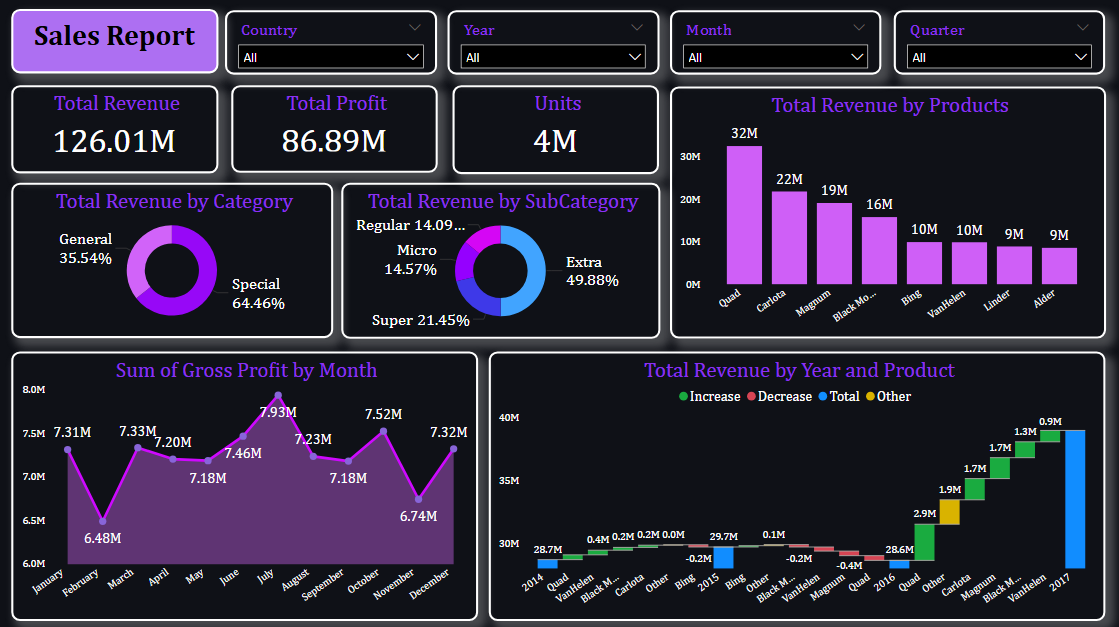

Layout of this report page (visuals, bound fields, positions):
{"tool":"powerbi","page":{"name":"Page 1","canvas":[1280,720],"ordinal":0},"visuals":[{"type":"textbox","box":[13.3,11.7,236.7,73.3],"z":0},{"type":"cardVisual","title":"Total Revenue","fields":{"Data":["Sum(Sales.Revenue)"]},"box":[13.3,98.3,236.7,100.8],"z":1000},{"type":"cardVisual","title":"Total Profit","fields":{"Data":["Sales.Total Profit"]},"box":[263.8,98.8,236.2,100],"z":2000},{"type":"cardVisual","title":"Units","fields":{"Data":["Sum(Sales.Units)"]},"box":[517.5,98.8,236.2,101.2],"z":3000},{"type":"donutChart","fields":{"Category":["Categories.Category"],"Y":["Sales.Total Revenue"]},"box":[13.3,209.3,368.3,177.5],"z":4000},{"type":"donutChart","title":"Total Revenue by SubCategory","fields":{"Category":["Sub categories.SubCategory Name"],"Y":["Sales.Total Revenue"]},"box":[390,210,365,178.3],"z":5000},{"type":"clusteredColumnChart","title":"Total Revenue by Products","fields":{"Category":["Product.ProductName"],"Y":["Sales.Total Revenue"]},"box":[765,100,498.3,288.3],"z":6000},{"type":"areaChart","fields":{"Category":["Sales.Date.Variation.Date Hierarchy.Month"],"Y":["Sum(Sales.Gross Profit)"]},"box":[13.3,403,533.2,307.6],"z":7000},{"type":"waterfallChart","title":"Total Revenue by Year and Product","fields":{"Category":["Sales.Date.Variation.Date Hierarchy.Year"],"Y":["Sales.Total Revenue"],"Breakdown":["Product.ProductName"]},"box":[558.3,403.3,705,308.3],"z":8000},{"type":"slicer","title":"Country","fields":{"Values":["Sales.Country"]},"box":[257.5,12.5,242.5,73.8],"z":9000},{"type":"slicer","title":"Quarter","fields":{"Values":["Sales.Date.Variation.Date Hierarchy.Year"]},"box":[512,12.5,242,73.8],"z":10000},{"type":"slicer","title":"Country","fields":{"Values":["Sales.Date.Variation.Date Hierarchy.Month"]},"box":[765,13.3,241.7,73.3],"z":11000},{"type":"slicer","title":"Country","fields":{"Values":["Sales.Date.Variation.Date Hierarchy.Quarter"]},"box":[1021.7,13.3,241.7,73.3],"z":12000}]}

Visuals, with their boxes in screenshot pixels (x1, y1, x2, y2), scaled from the page's 1280x720 canvas onto the 1119x627 screenshot:
textbox: select_region(12, 10, 219, 74)
"Total Revenue" cardVisual: select_region(12, 86, 219, 173)
"Total Profit" cardVisual: select_region(231, 86, 437, 173)
"Units" cardVisual: select_region(452, 86, 659, 174)
donutChart - Categories.Category x Sales.Total Revenue: select_region(12, 182, 334, 337)
"Total Revenue by SubCategory" donutChart: select_region(341, 183, 660, 338)
"Total Revenue by Products" clusteredColumnChart: select_region(669, 87, 1104, 338)
areaChart - Sales.Date.Variation.Date Hierarchy.Month x Sum(Sales.Gross Profit): select_region(12, 351, 478, 619)
"Total Revenue by Year and Product" waterfallChart: select_region(488, 351, 1104, 620)
"Country" slicer: select_region(225, 11, 437, 75)
"Quarter" slicer: select_region(448, 11, 659, 75)
"Country" slicer: select_region(669, 12, 880, 75)
"Country" slicer: select_region(893, 12, 1104, 75)
